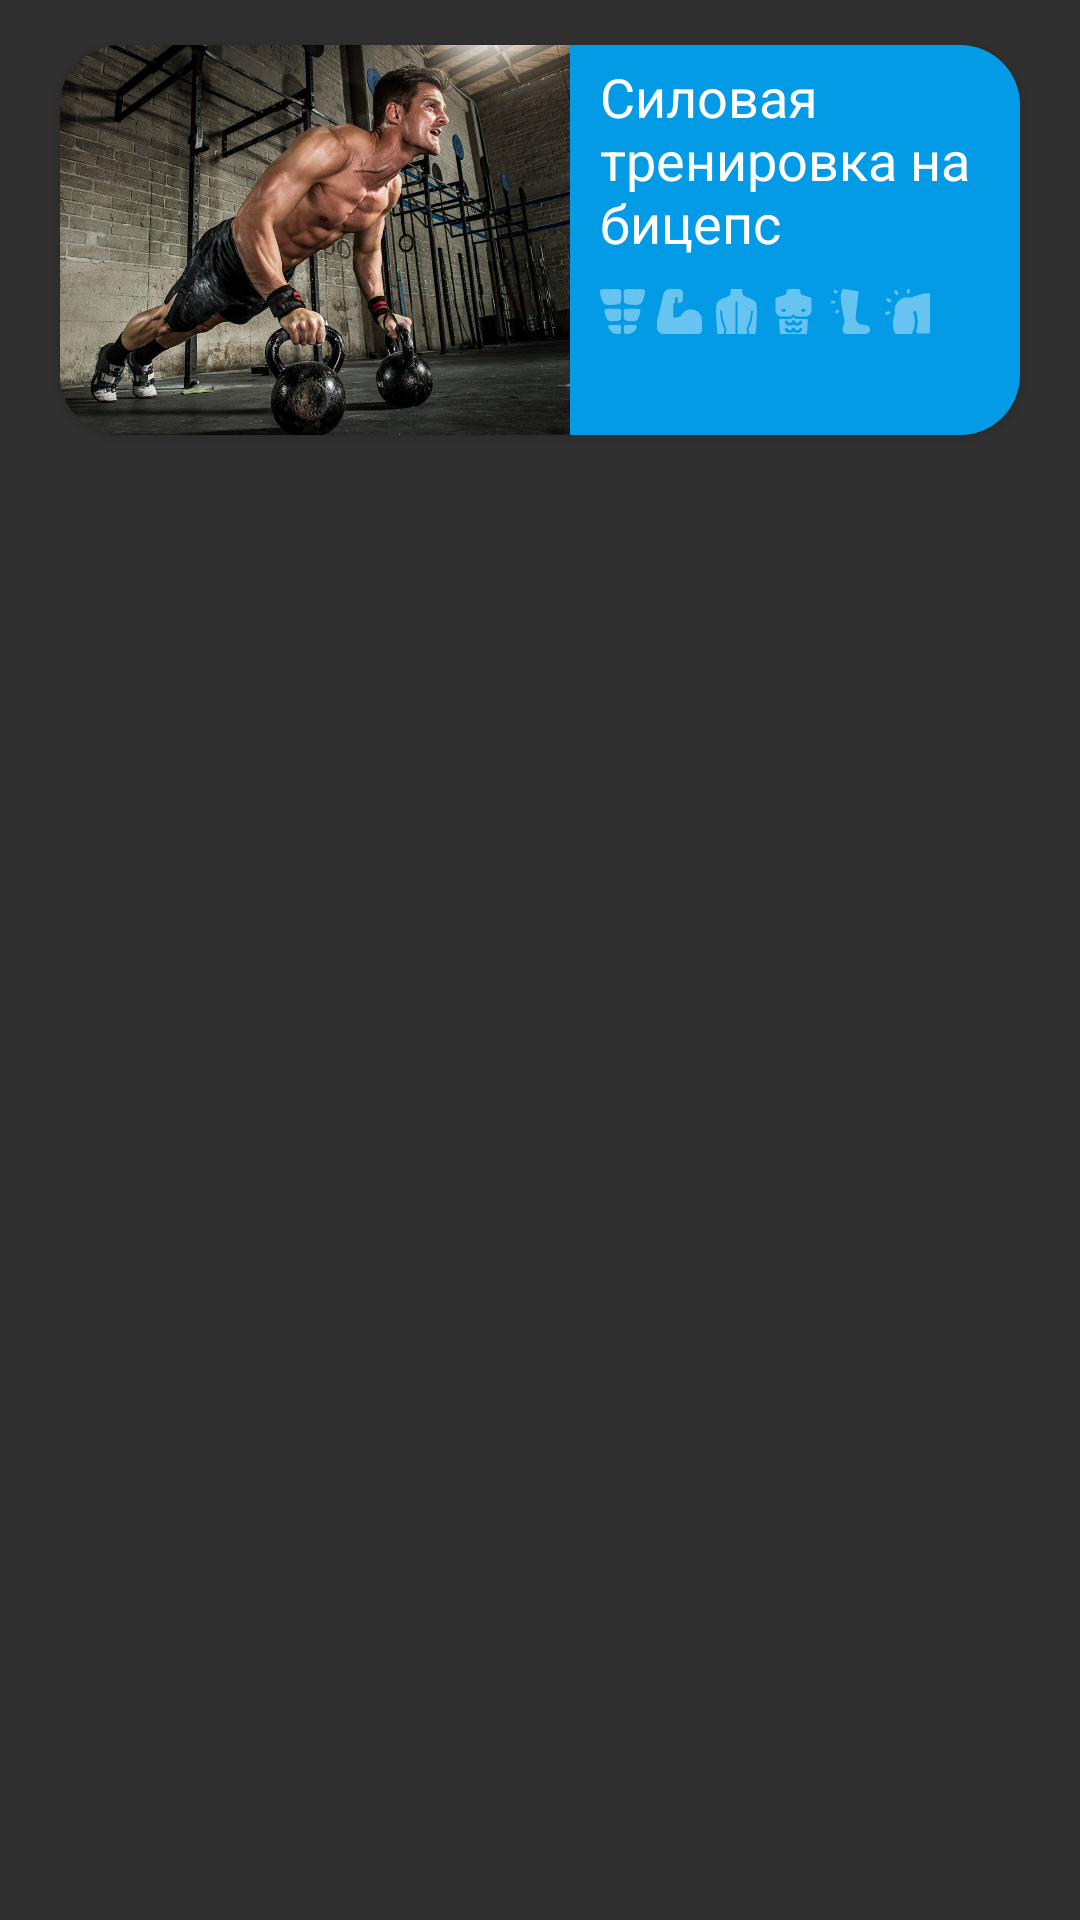

Locate icon controls on the screen. Image size 1080*1920, boxes as (x1, y1, x2, y2).
arm: (657, 289, 702, 334)
back: (716, 289, 757, 334)
chest: (775, 289, 812, 334)
leg: (831, 289, 870, 334)
press: (600, 289, 645, 334)
shoulder: (885, 289, 930, 334)
